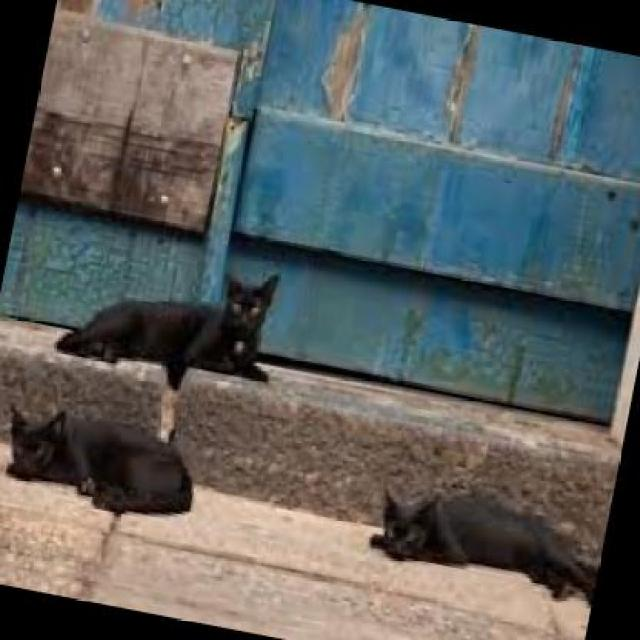animals: (50, 229, 295, 408), (349, 464, 606, 618), (0, 384, 228, 548)
